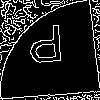P: (25, 24, 67, 74)
